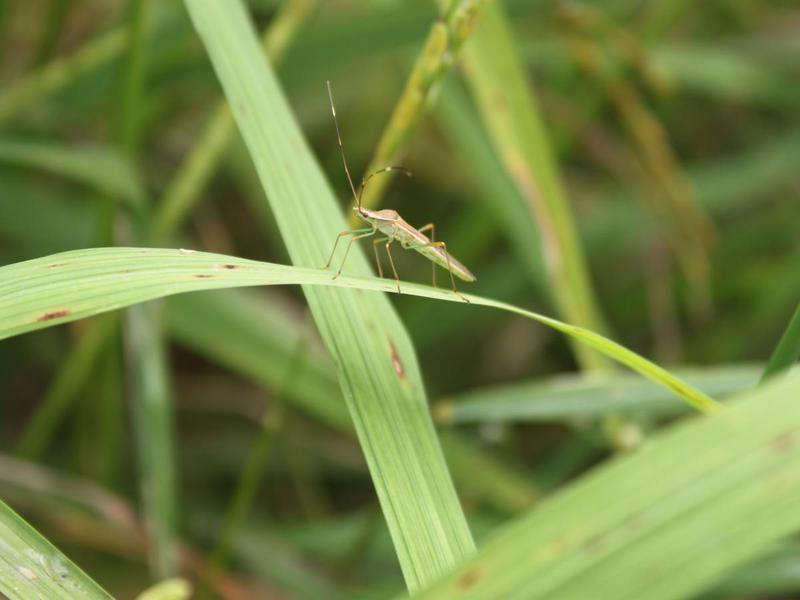Rice_earhead_bug: (303, 181, 496, 290)
